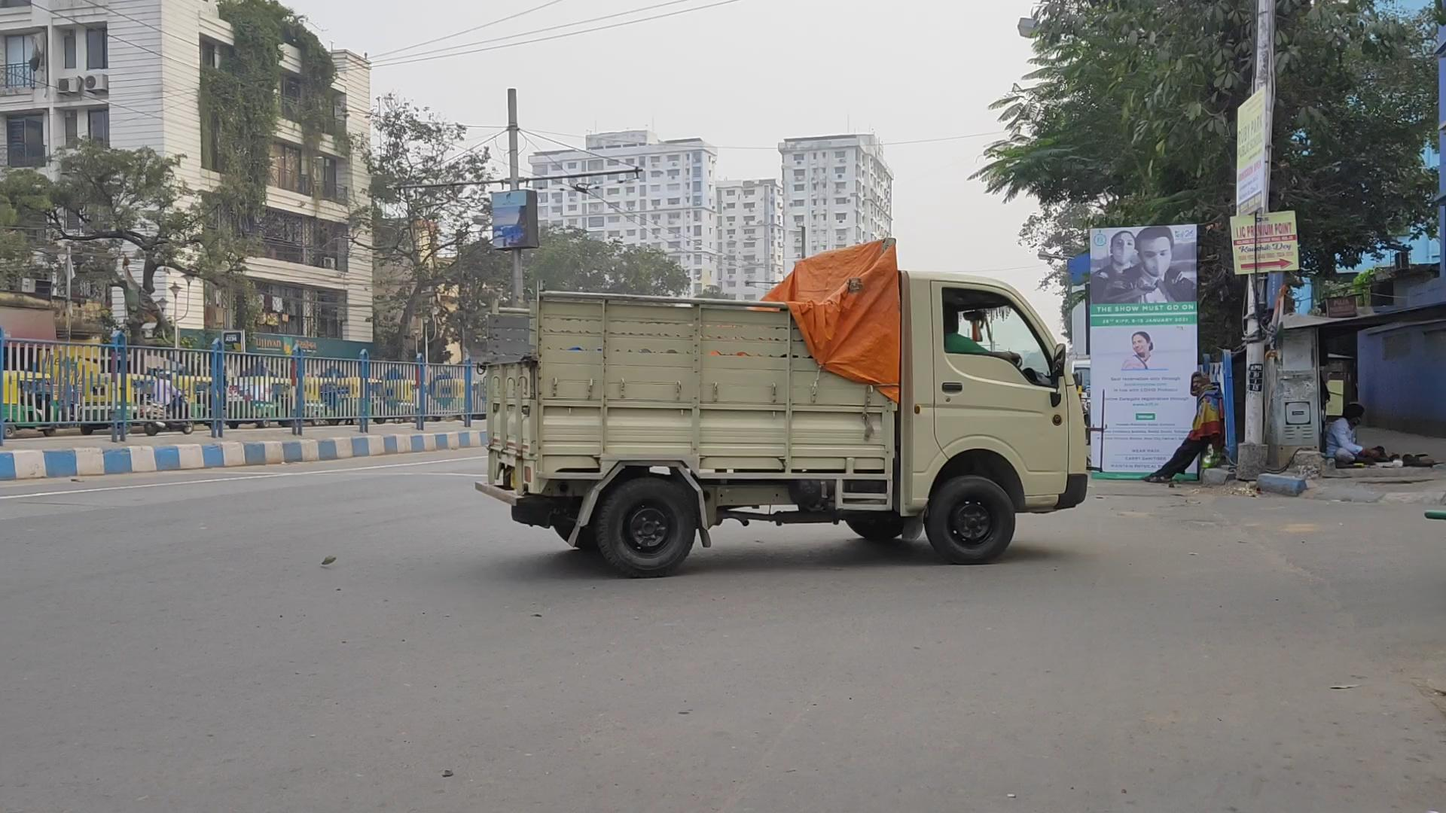van: (474, 237, 1106, 580)
